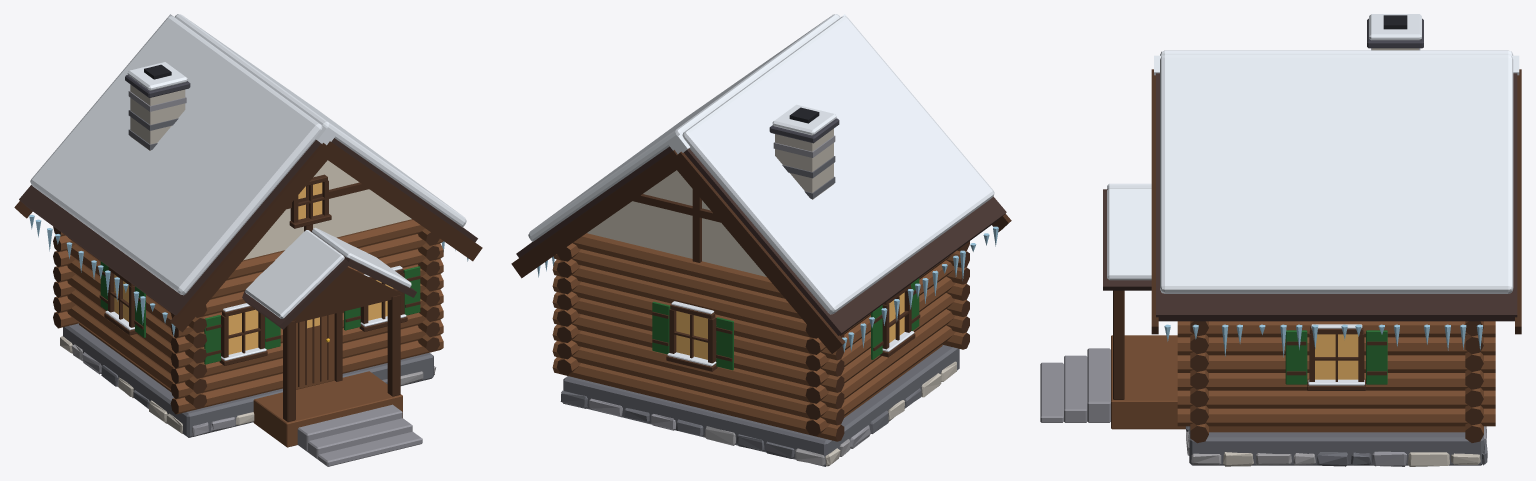
File: cabin.glb
3 views of the same model, side by side, from view 1: azimuth 30°, elevation 25°; view 2: azimuth 150°, elevation 25°; view 3: azimuth 270°, elevation 25° (orthographic). The views are drawn at different scales.
Parts seen in each view (by area): view 1: cabin_Structure, cabin_Windows, cabin_Icicles; view 2: cabin_Structure, cabin_Windows, cabin_Icicles; view 3: cabin_Structure, cabin_Windows, cabin_Icicles.
Part boxes in pixels (box(x1,y1,x2,y2)): cabin_Structure: box(14, 14, 482, 466); cabin_Windows: box(114, 182, 393, 354); cabin_Icicles: box(29, 215, 468, 336); cabin_Structure: box(511, 14, 1011, 466); cabin_Windows: box(676, 292, 904, 359); cabin_Icicles: box(537, 226, 998, 352); cabin_Structure: box(1040, 14, 1521, 466); cabin_Windows: box(1315, 334, 1358, 379); cabin_Icicles: box(1164, 324, 1482, 357).
Size of the model in its own units: 21.29 by 19.31 by 24.53.
1 material, 1 textured.
